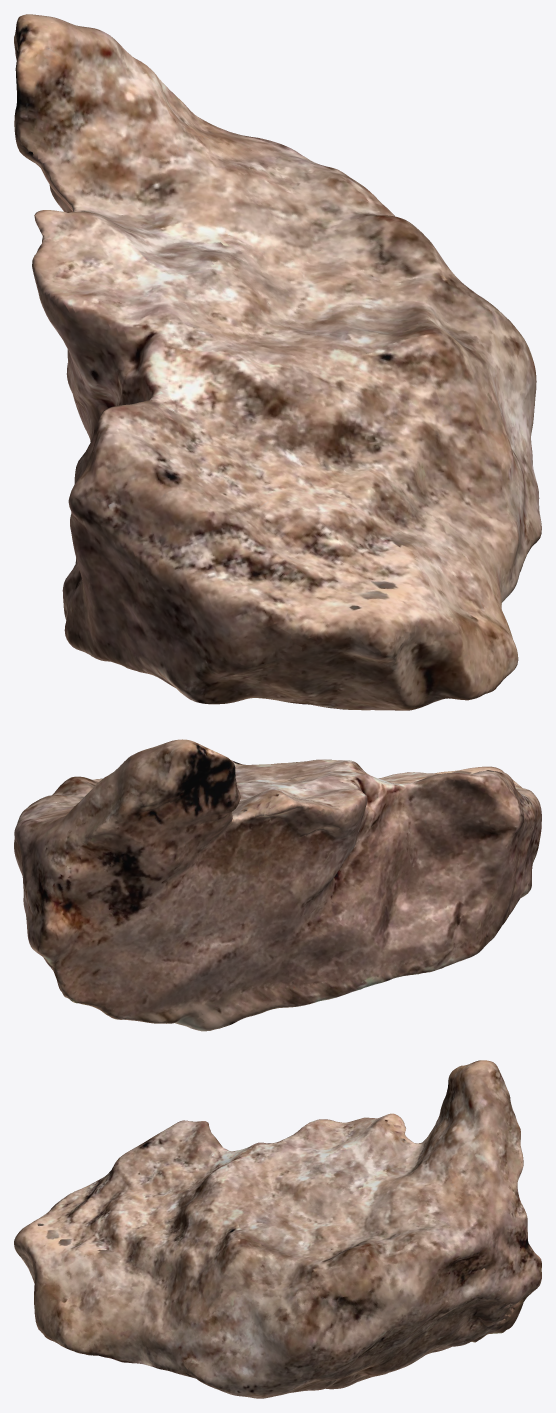
File: dolostone.glb
3 renders of one model, top to bottom at view 1: azimuth 30°, elevation 25°; view 2: azimuth 150°, elevation 25°; view 3: azimuth 270°, elevation 25°, orthographic. The views are drawn at different scales.
Visible parts, largest first — view 1: Object_2; view 2: Object_2; view 3: Object_2.
Part boxes in pixels (<box>): Object_2: <box>14,14,541,710</box>; Object_2: <box>14,739,541,1031</box>; Object_2: <box>14,1060,541,1398</box>.
Bounding box in the file's own units: 0.0867 × 0.0692 × 0.12.
1 material, 1 textured.
